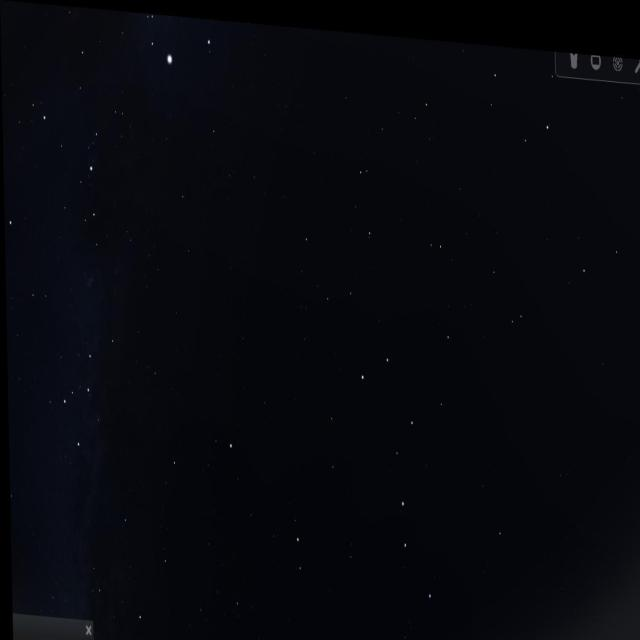cassiopeia: (56, 310, 124, 460)
ursa_major: (351, 337, 439, 616)
